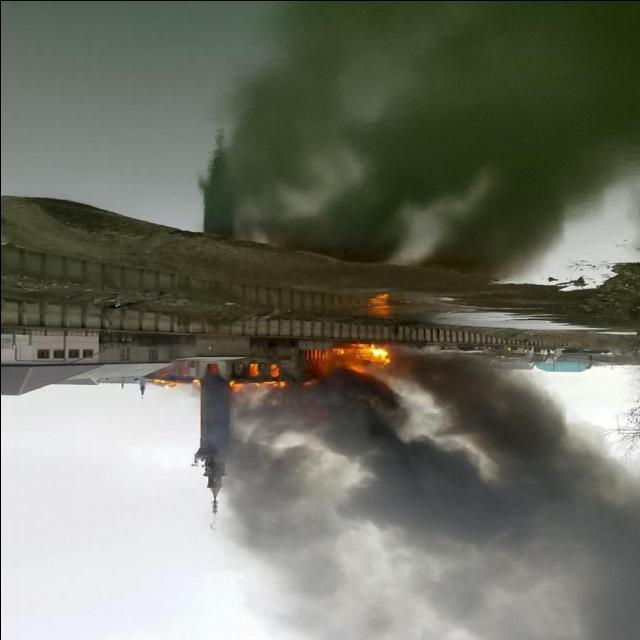Fire: (140, 368, 296, 412), (314, 326, 407, 379)
